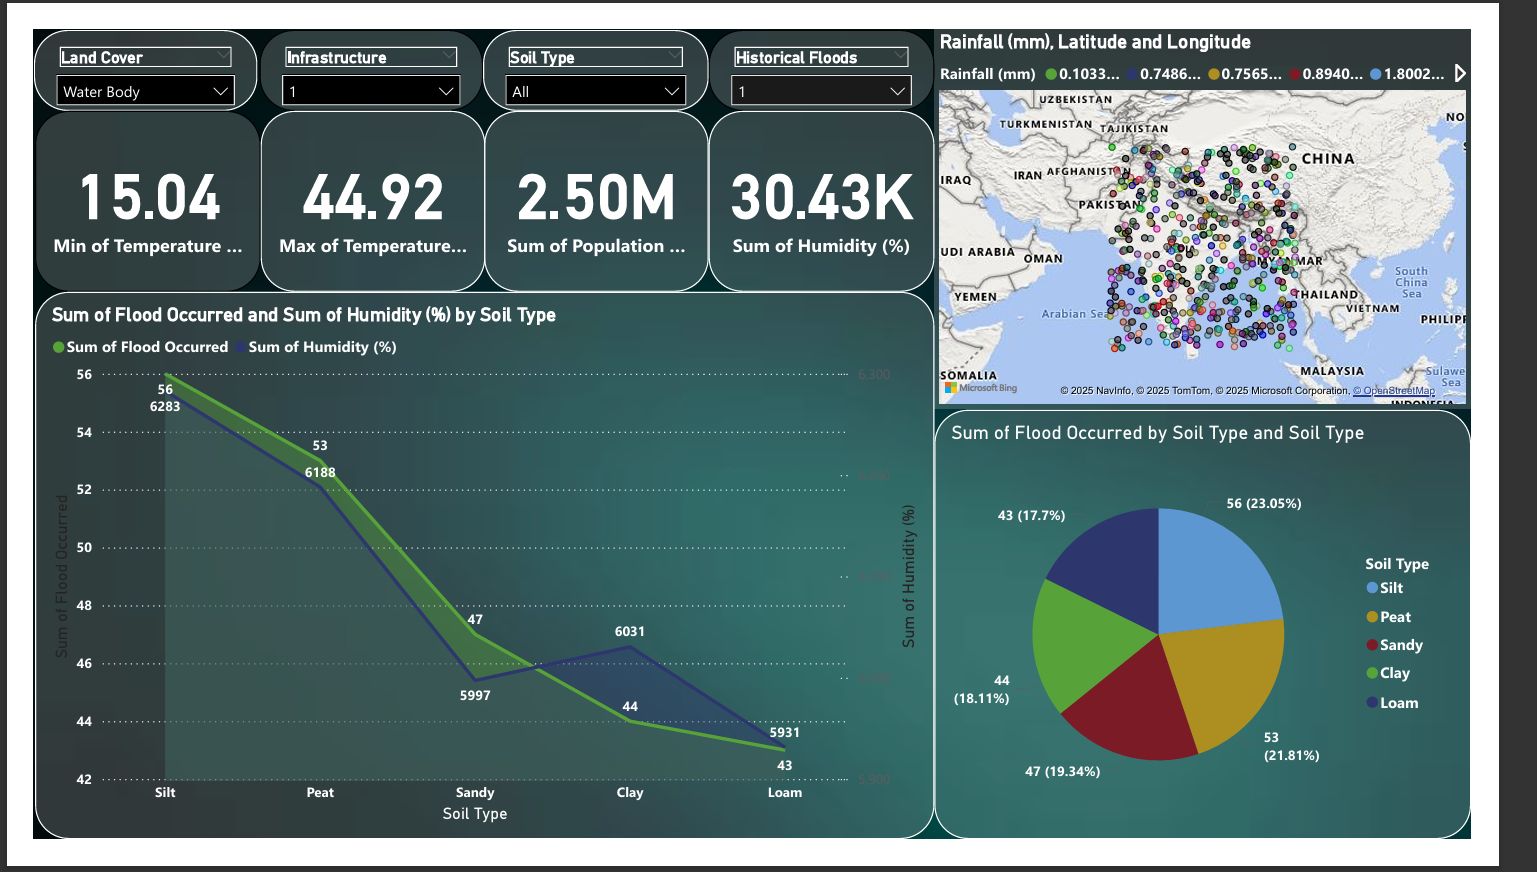

This screenshot's page, from the dashboard's own definition file:
{"tool":"powerbi","page":{"name":"Page 1","canvas":[1280,720],"ordinal":0},"visuals":[{"type":"map","fields":{"Y":["flood_risk_dataset_india.Latitude"],"X":["flood_risk_dataset_india.Longitude"],"Series":["flood_risk_dataset_india.Rainfall (mm)"]},"box":[801.5,0,478.7,337.7],"z":0},{"type":"slicer","fields":{"Values":["flood_risk_dataset_india.Land Cover"]},"box":[0,0,199.4,71.9],"z":1000},{"type":"slicer","fields":{"Values":["flood_risk_dataset_india.Infrastructure"]},"box":[200.7,0,199.4,71.9],"z":2000},{"type":"slicer","fields":{"Values":["flood_risk_dataset_india.Soil Type"]},"box":[400.1,0,200.7,71.9],"z":3000},{"type":"slicer","fields":{"Values":["flood_risk_dataset_india.Historical Floods"]},"box":[600.8,0,200.7,71.9],"z":4000},{"type":"card","fields":{"Values":["Min(flood_risk_dataset_india.Temperature (°C))"]},"box":[1.4,71.9,200.7,161.4],"z":5000},{"type":"card","fields":{"Values":["Max(flood_risk_dataset_india.Temperature (°C))"]},"box":[202.1,71.9,200,161.4],"z":6000},{"type":"card","fields":{"Values":["Sum(flood_risk_dataset_india.Population Density)"]},"box":[401.4,71.9,200,161.4],"z":7000},{"type":"card","fields":{"Values":["Sum(flood_risk_dataset_india.Humidity (%))"]},"box":[600.8,71.9,200.7,161.4],"z":8000},{"type":"areaChart","fields":{"Category":["flood_risk_dataset_india.Soil Type"],"Y":["Sum(flood_risk_dataset_india.Flood Occurred)"],"Y2":["Sum(flood_risk_dataset_india.Humidity (%))"]},"box":[1.4,233.3,800.2,486.9],"z":9000},{"type":"pieChart","fields":{"Category":["flood_risk_dataset_india.Soil Type"],"Series":["flood_risk_dataset_india.Soil Type"],"Y":["Sum(flood_risk_dataset_india.Flood Occurred)"]},"box":[802,338,478,382],"z":10000}]}

Visuals, with their boxes in screenshot pixels (x1, y1, x2, y2), scaled from the page's 1280x720 canvas onto the 1537x872 screenshot:
map - flood_risk_dataset_india.Latitude x flood_risk_dataset_india.Longitude: pyautogui.locateOnScreen(962, 0, 1536, 409)
slicer - flood_risk_dataset_india.Land Cover: pyautogui.locateOnScreen(0, 0, 239, 87)
slicer - flood_risk_dataset_india.Infrastructure: pyautogui.locateOnScreen(241, 0, 480, 87)
slicer - flood_risk_dataset_india.Soil Type: pyautogui.locateOnScreen(480, 0, 721, 87)
slicer - flood_risk_dataset_india.Historical Floods: pyautogui.locateOnScreen(721, 0, 962, 87)
card - Min(flood_risk_dataset_india.Temperature (°C)): pyautogui.locateOnScreen(2, 87, 243, 283)
card - Max(flood_risk_dataset_india.Temperature (°C)): pyautogui.locateOnScreen(243, 87, 483, 283)
card - Sum(flood_risk_dataset_india.Population Density): pyautogui.locateOnScreen(482, 87, 722, 283)
card - Sum(flood_risk_dataset_india.Humidity (%)): pyautogui.locateOnScreen(721, 87, 962, 283)
areaChart - flood_risk_dataset_india.Soil Type x Sum(flood_risk_dataset_india.Flood Occurred): pyautogui.locateOnScreen(2, 283, 963, 871)
pieChart - flood_risk_dataset_india.Soil Type x flood_risk_dataset_india.Soil Type: pyautogui.locateOnScreen(963, 409, 1536, 871)
